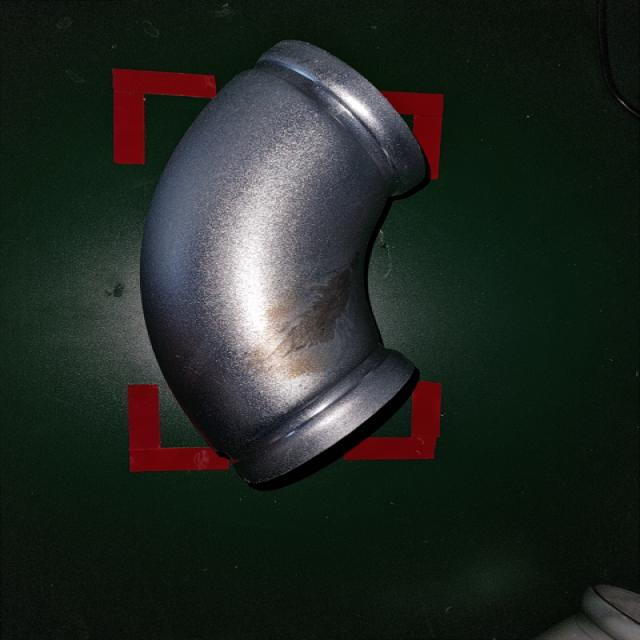Burn: (225, 262, 368, 388)
Defect: (137, 30, 442, 492)
